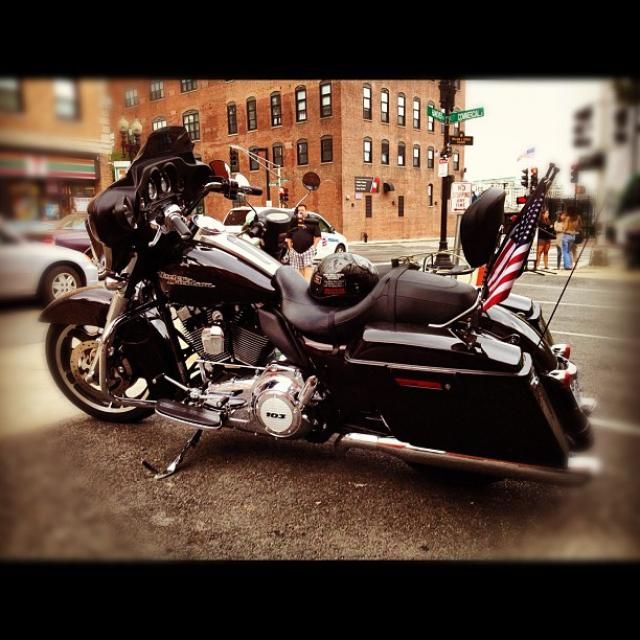motor: (33, 125, 594, 485)
